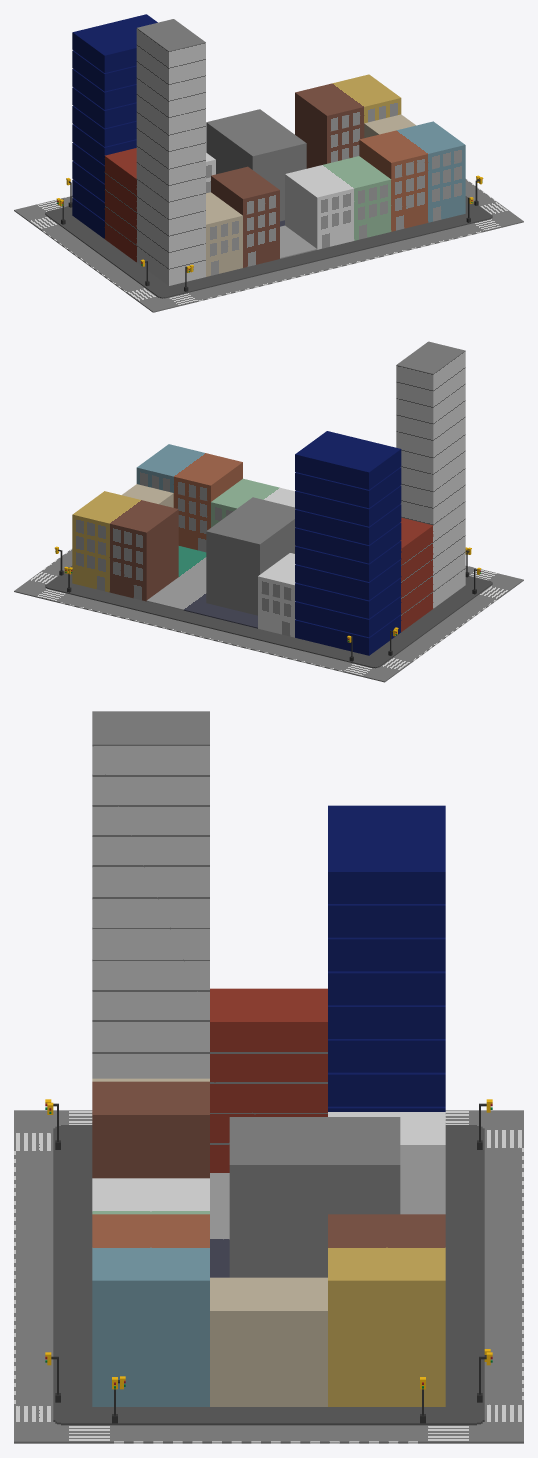
File: Block1.glb
3 renders of one model, top to bottom at view 1: azimuth 30°, elevation 25°; view 2: azimuth 150°, elevation 25°; view 3: azimuth 270°, elevation 25°, orthographic. The views are drawn at different scales.
Parts seen in each view (by area): view 1: Block_Side1; view 2: Block_Side1; view 3: Block_Side1.
Part boxes in pixels (x1,y1,x2,y2): Block_Side1: [14, 14, 523, 312]; Block_Side1: [14, 341, 523, 682]; Block_Side1: [14, 711, 523, 1443].
Bounding box in the file's own units: 4 × 2.44 × 2.6.
Materials: 1 (1 with a texture image).
